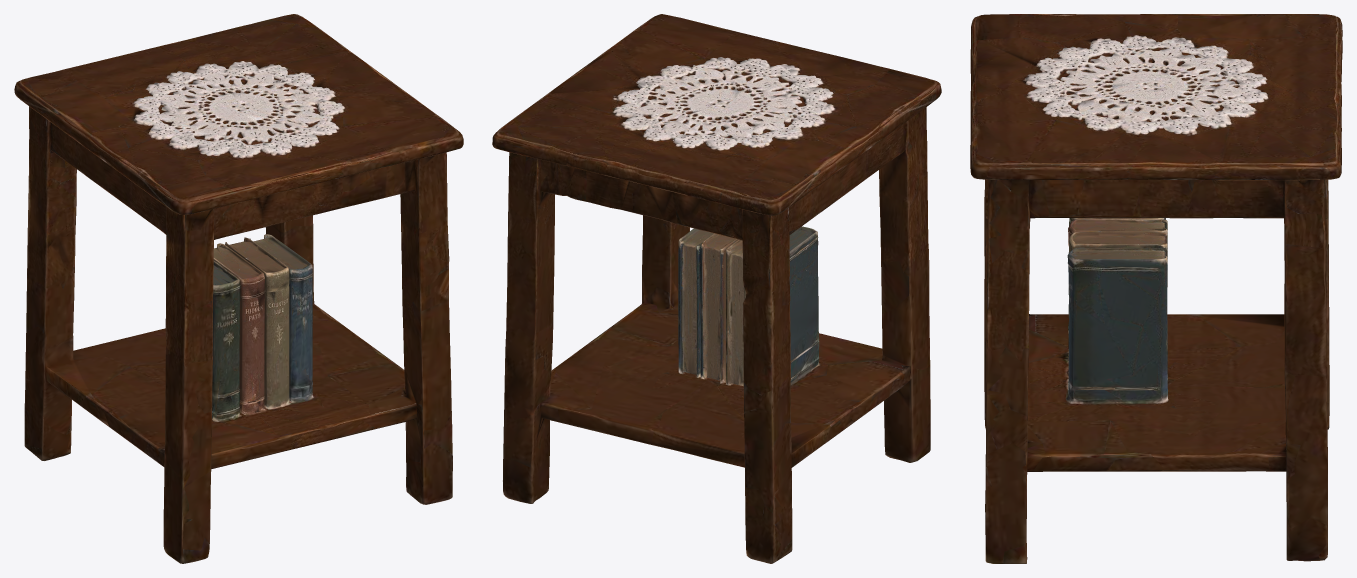
File: endtable.glb
The picture shows the model from 3 angles, left to right: view 1: azimuth 30°, elevation 25°; view 2: azimuth 150°, elevation 25°; view 3: azimuth 270°, elevation 25°; orthographic projection. The views are drawn at different scales.
Bounding box in the file's own units: 1.55 × 1.9 × 1.58.
1 material, 1 textured.
